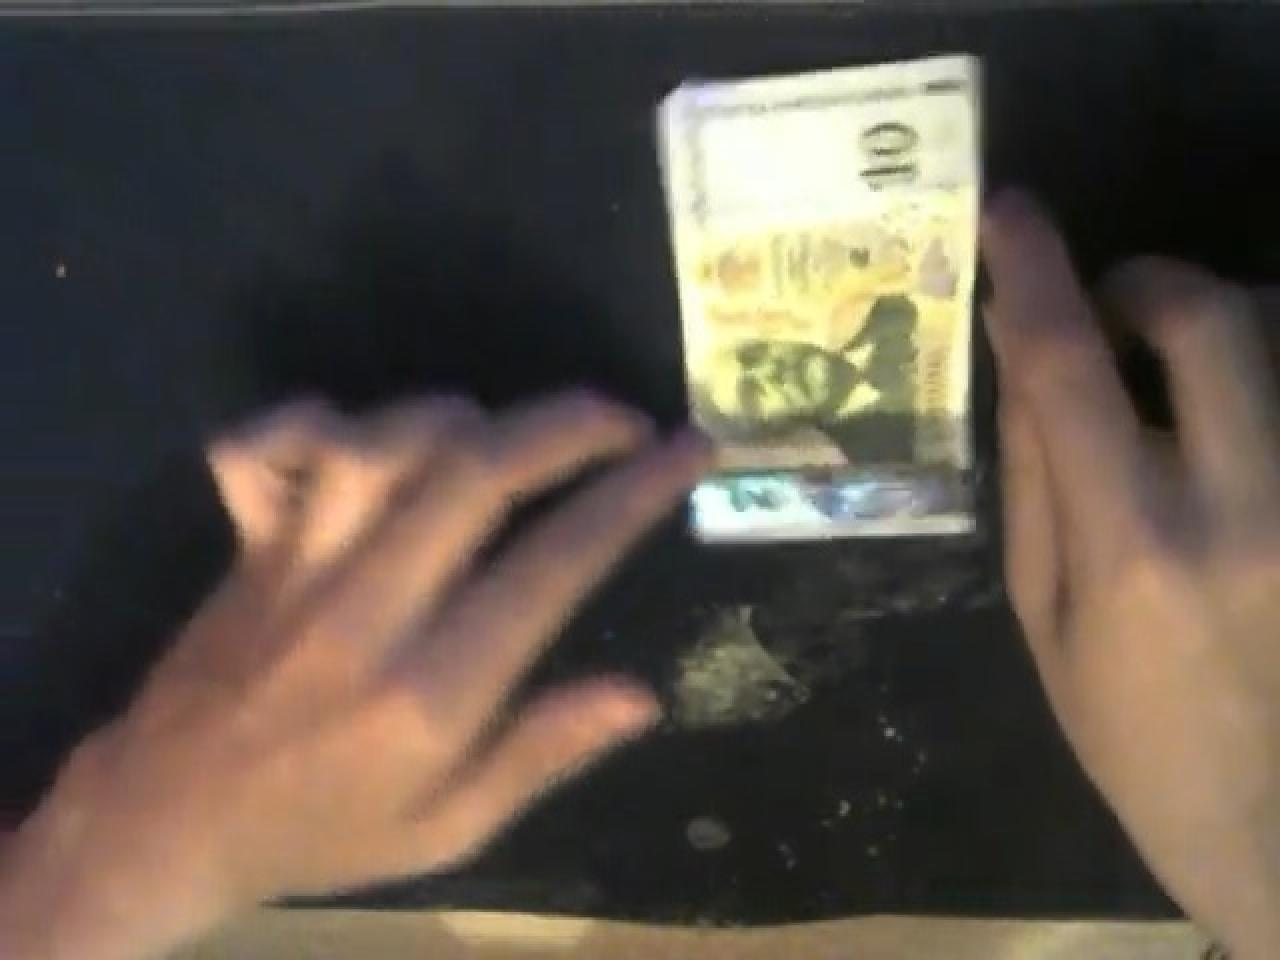10leva: (654, 48, 986, 544)
